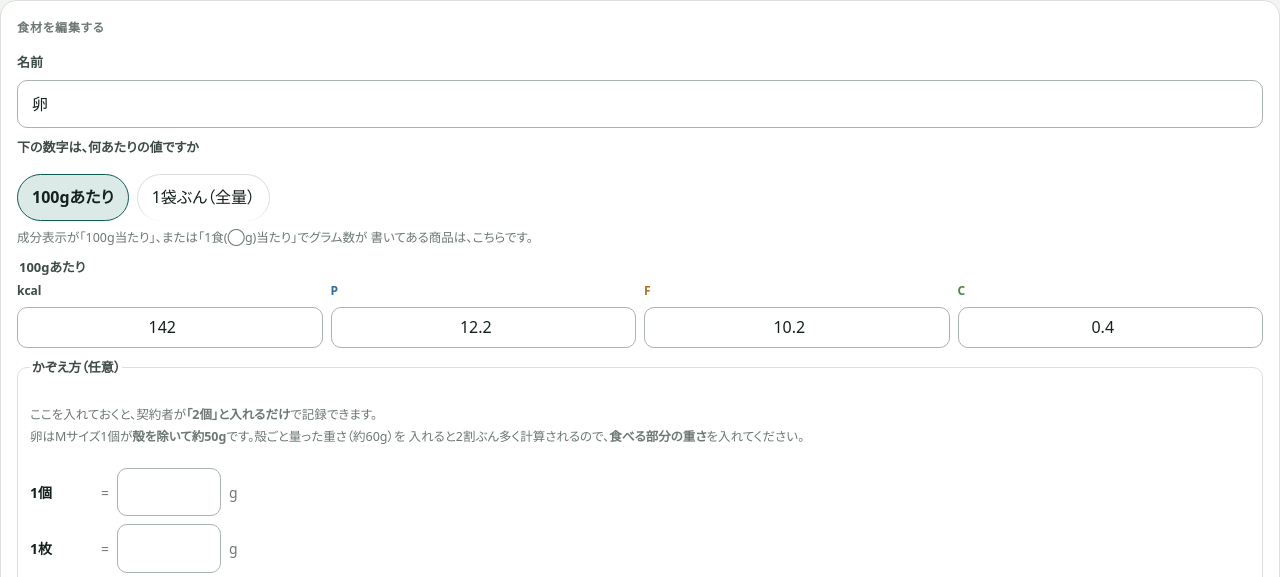
Test case: ★ 1袋ぶんで登録する › ★ 写真を撮らなくても選べる
Click the radio button labelled "1袋ぶん（全量）" at (203, 197), box [137,174,270,221]
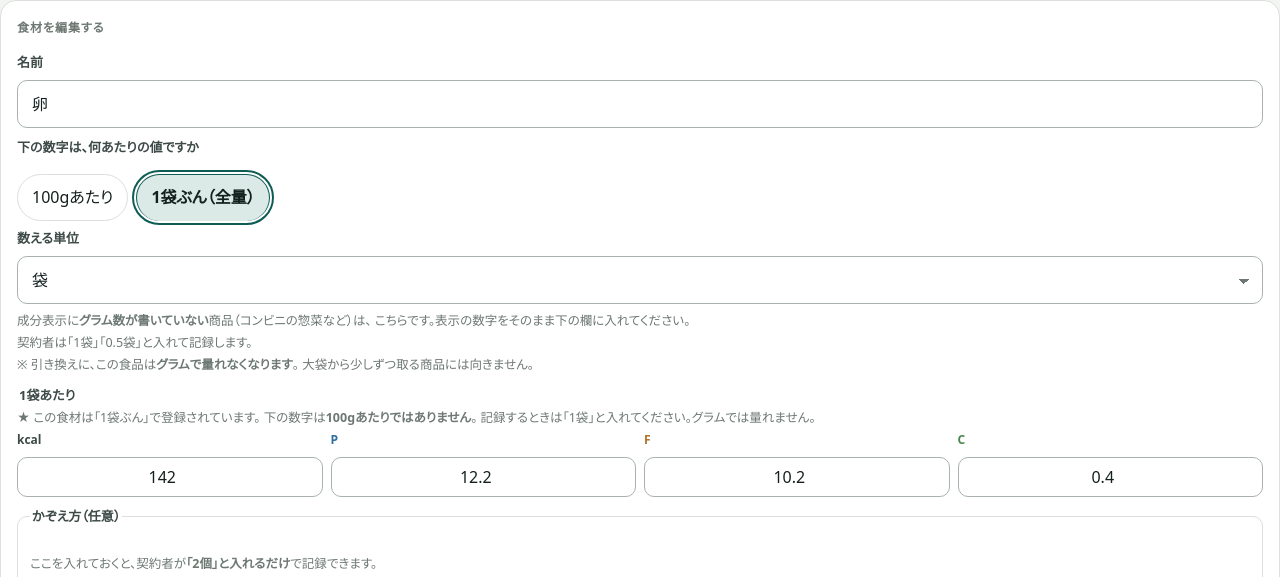
Expected: the dropdown labelled "数える単位" shows "袋", [17,256,1263,304]
